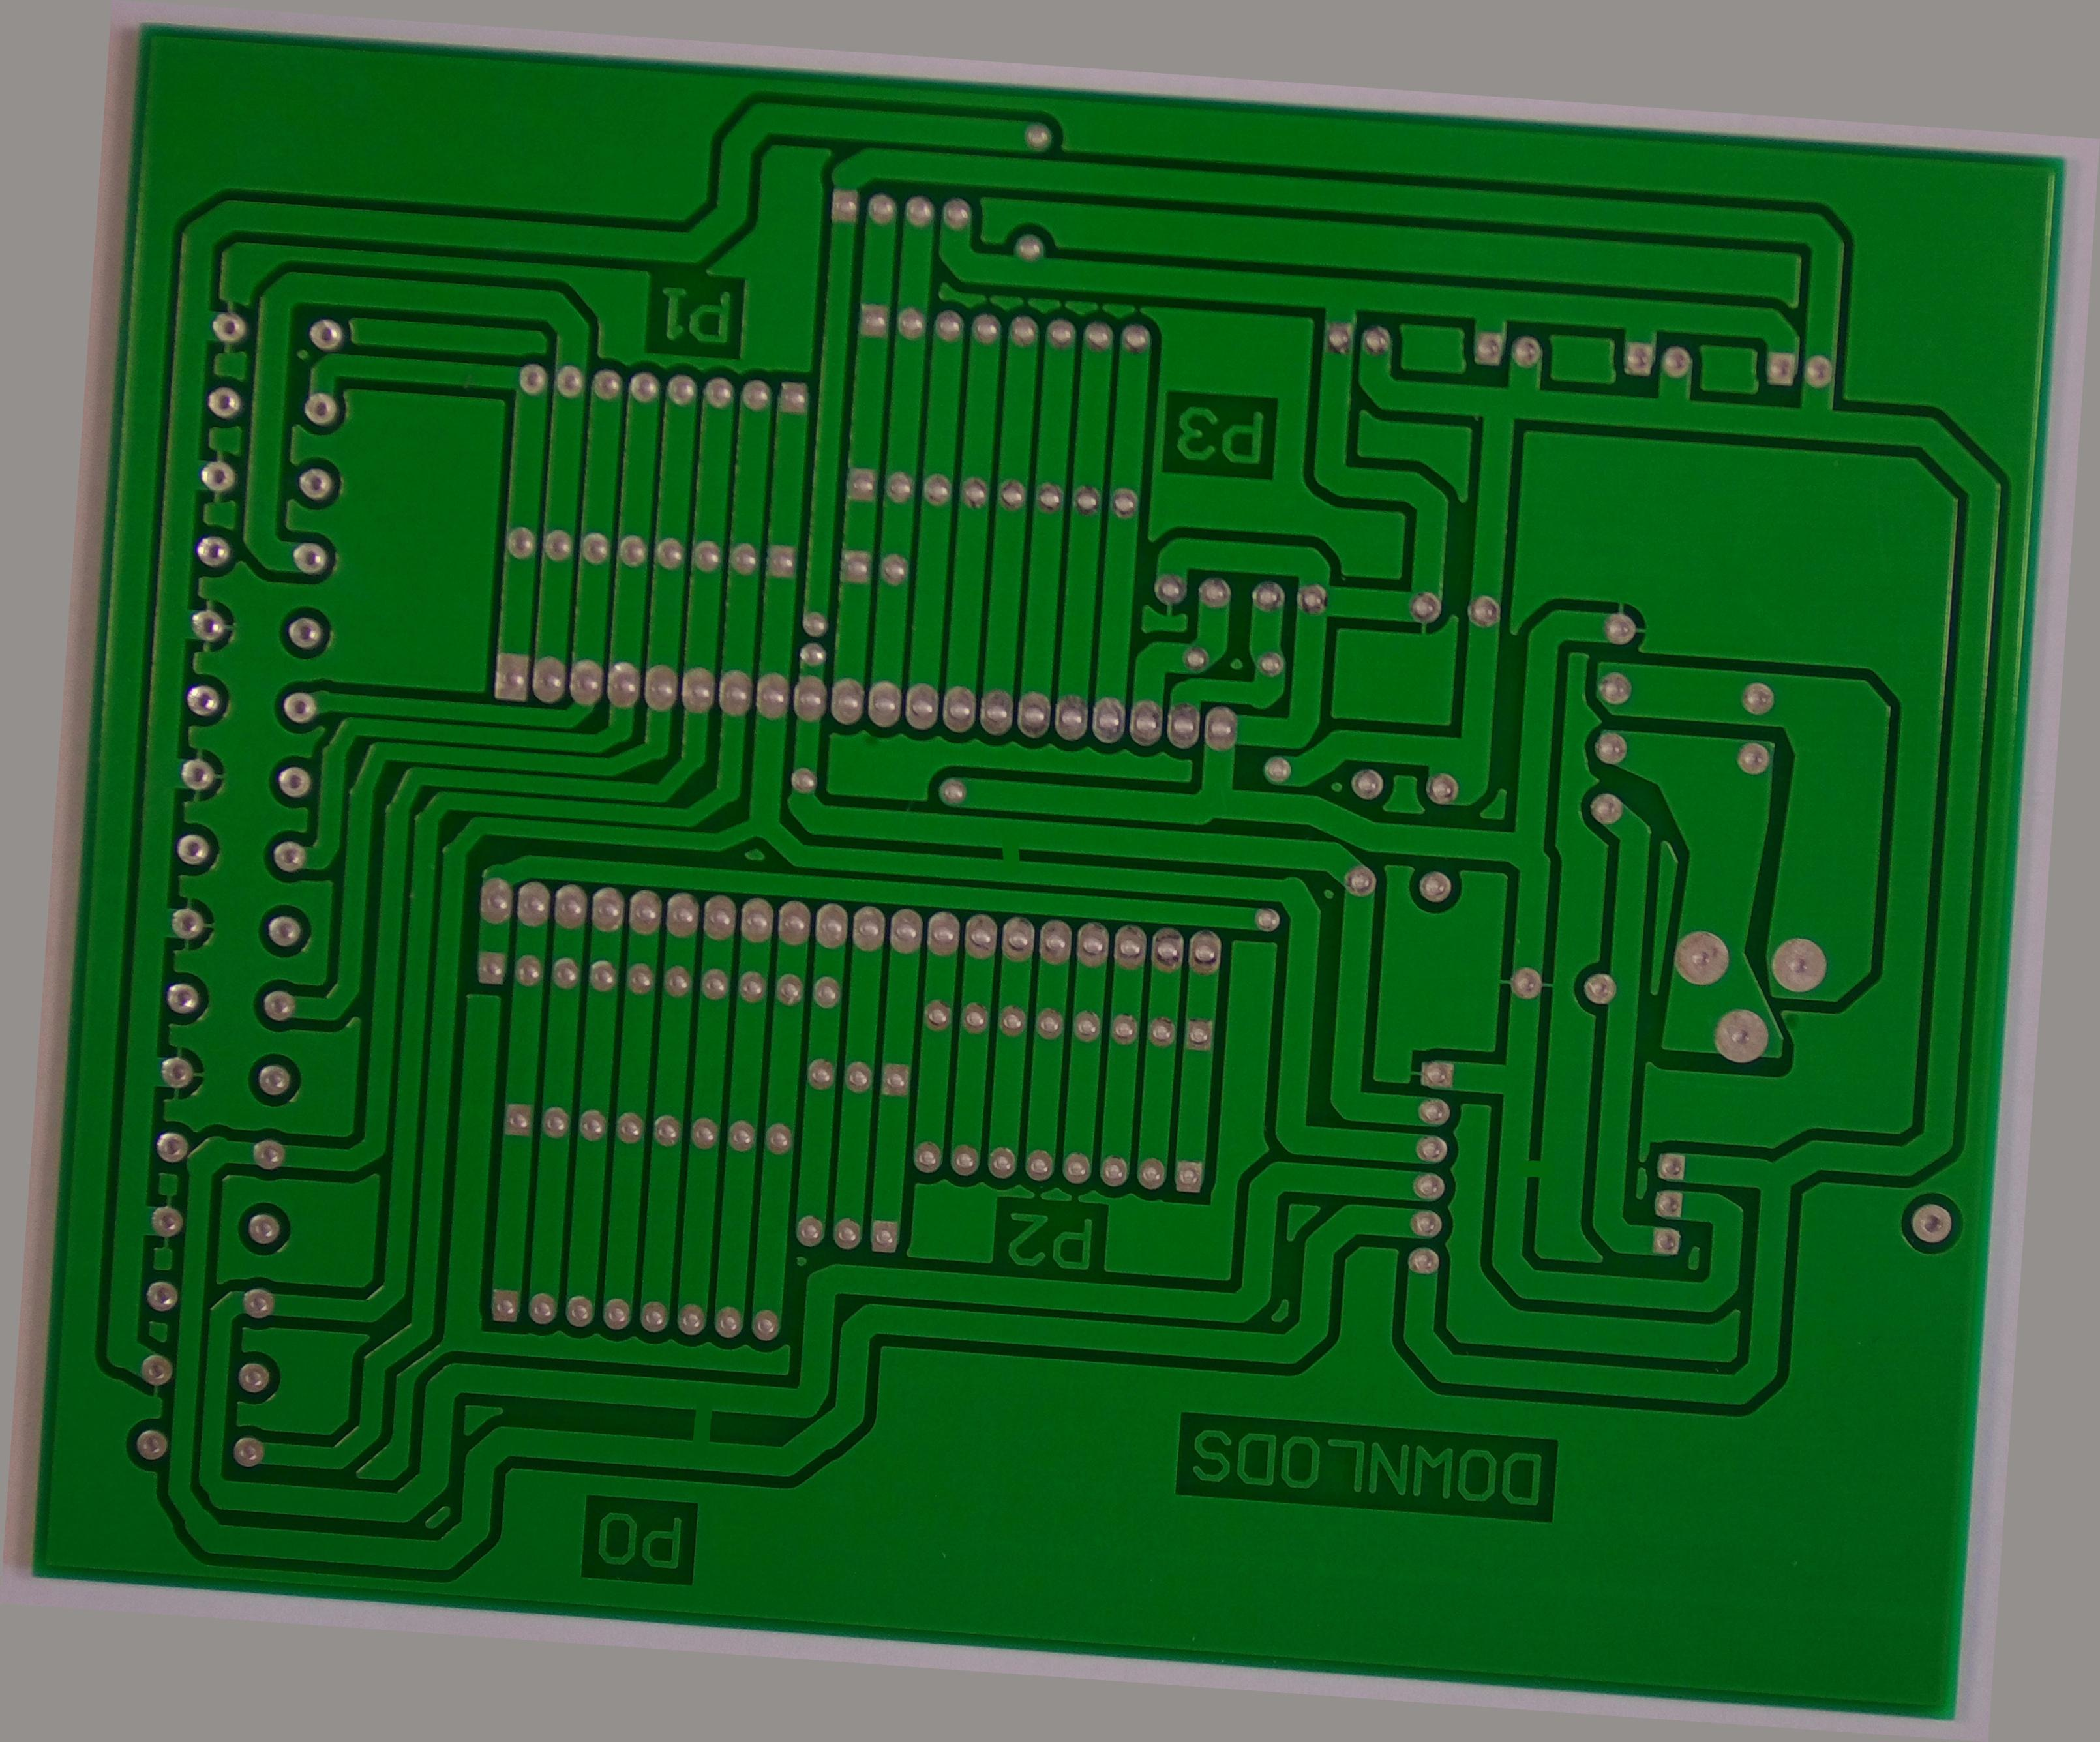short: (645, 1360, 752, 1480), (1500, 1118, 1577, 1214), (968, 811, 1052, 891)
